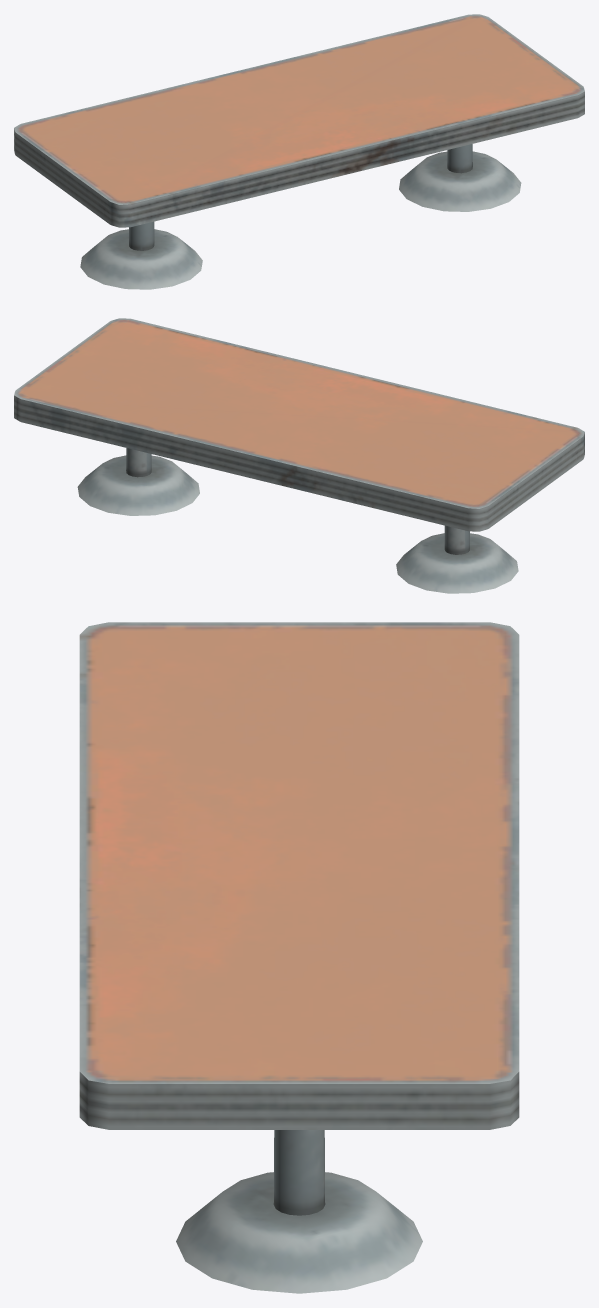
File: Pfb_Canteen_01_01_Table1.fbx
The picture shows the model from 3 angles, top to bottom: view 1: azimuth 30°, elevation 25°; view 2: azimuth 150°, elevation 25°; view 3: azimuth 270°, elevation 25°; orthographic projection. The views are drawn at different scales.
Visible parts, largest first — view 1: Mat_Canteen_01_01_Red; view 2: Mat_Canteen_01_01_Red; view 3: Mat_Canteen_01_01_Red.
Boxes of the visible parts, x1=… form: Mat_Canteen_01_01_Red: x1=14, y1=14, x2=584, y2=289; Mat_Canteen_01_01_Red: x1=14, y1=318, x2=584, y2=593; Mat_Canteen_01_01_Red: x1=79, y1=622, x2=519, y2=1293.
Size of the model in its own units: 2.61 by 0.6106 by 1.05.
1 material, 1 textured.
